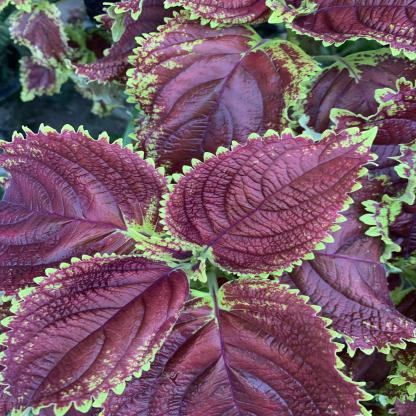Bunga Coleus: (17, 133, 387, 416), (72, 5, 405, 127)
